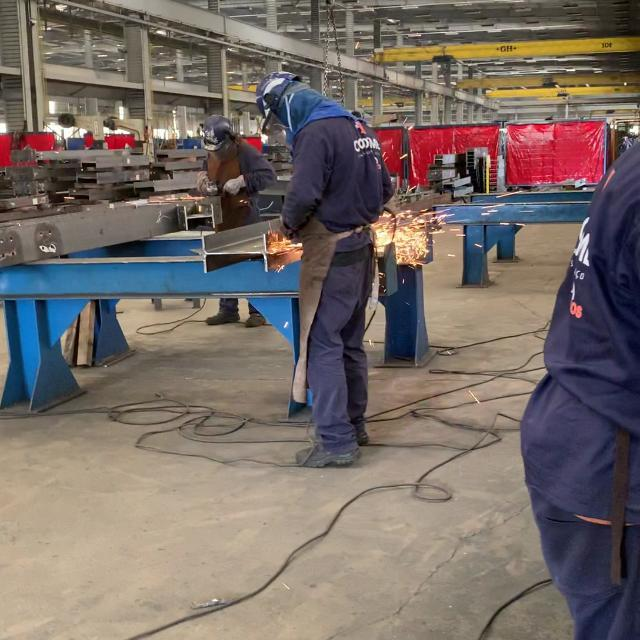eye-glass: (262, 104, 297, 151)
face-shield: (278, 216, 290, 241)
mask: (256, 70, 396, 460)
safety-shoe: (299, 437, 361, 470)
